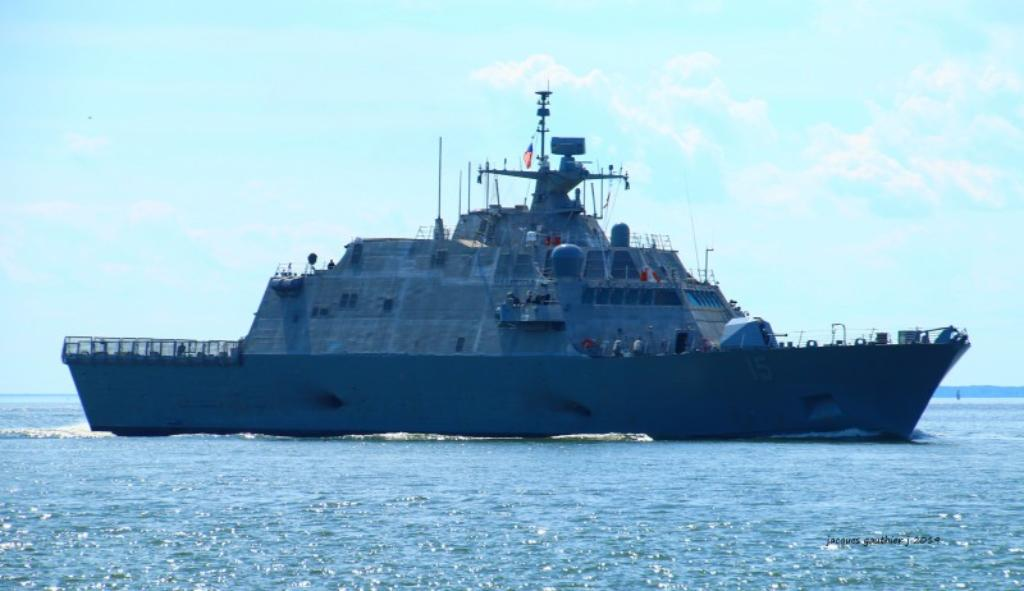Warship: (58, 85, 976, 443)
